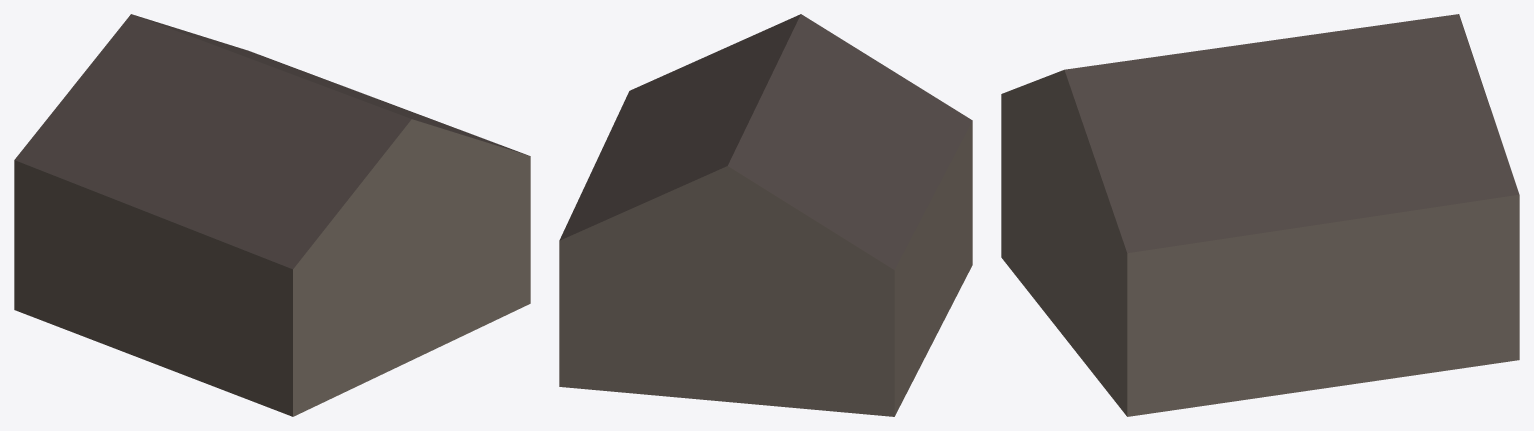
3 renders of one model, left to right at view 1: azimuth 30°, elevation 25°; view 2: azimuth 150°, elevation 25°; view 3: azimuth 270°, elevation 25°, orthographic. The views are drawn at different scales.
Parts seen in each view (by area): view 1: HP-w1367350979; view 2: HP-w1367350979; view 3: HP-w1367350979.
Part boxes in pixels (x1,y1,x2,y2): HP-w1367350979: (14,14,530,416); HP-w1367350979: (559,14,972,416); HP-w1367350979: (1001,14,1519,416).
Size of the model in its own units: 16.75 by 9.81 by 17.21.
